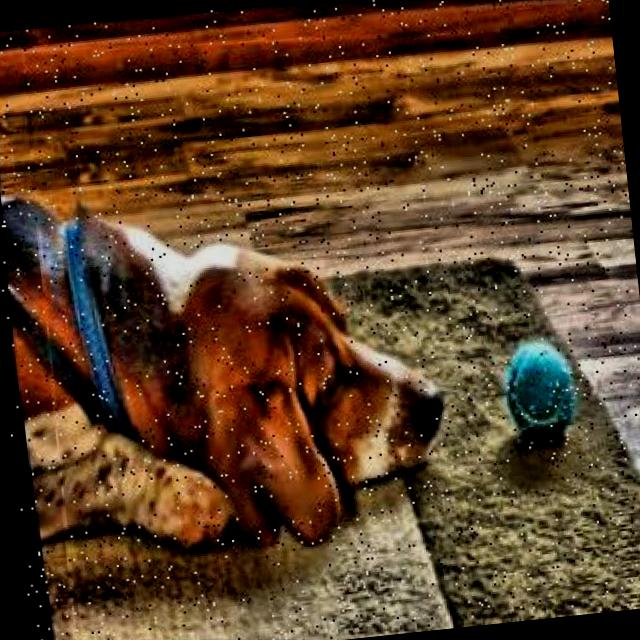tennis-ball: (489, 333, 581, 452)
